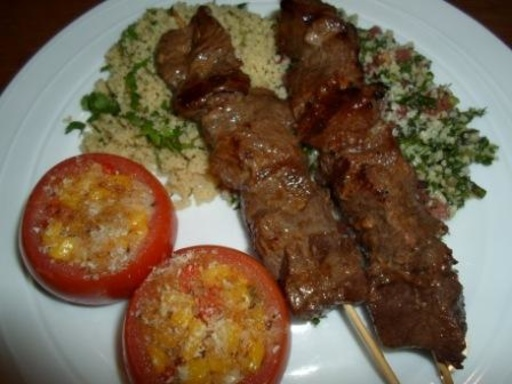background: (14, 0, 398, 230)
